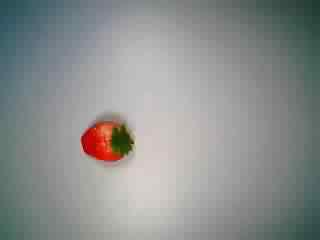strawberry: (76, 112, 144, 176)
